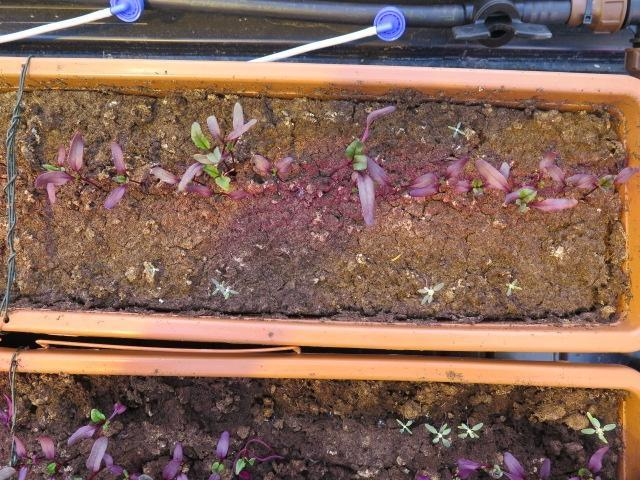crop: (100, 137, 130, 209), (249, 151, 297, 179)
weed: (577, 406, 619, 445), (408, 277, 445, 308), (420, 418, 452, 450), (454, 419, 485, 440), (444, 117, 469, 142), (500, 274, 527, 297), (392, 413, 415, 436)
